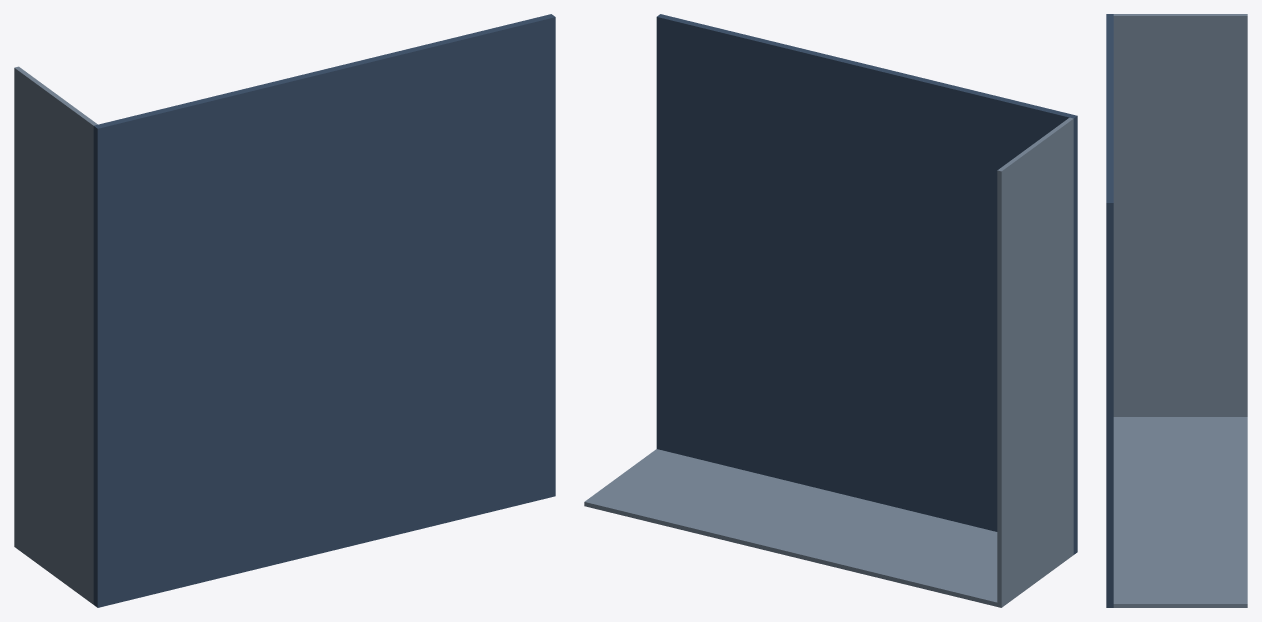
Rendered from office.glb.
The picture shows the model from 3 angles, left to right: view 1: azimuth 30°, elevation 25°; view 2: azimuth 150°, elevation 25°; view 3: azimuth 270°, elevation 25°; orthographic projection. The views are drawn at different scales.
Parts seen in each view (by area): view 1: floor, side_wall; view 2: floor, side_wall, back_wall; view 3: side_wall, back_wall, floor.
Boxes of the visible parts, x1=… form: floor: x1=93, y1=14, x2=555, y2=607; side_wall: x1=14, y1=66, x2=97, y2=604; floor: x1=656, y1=14, x2=1077, y2=554; side_wall: x1=997, y1=117, x2=1073, y2=603; back_wall: x1=584, y1=449, x2=1073, y2=607; side_wall: x1=1113, y1=14, x2=1247, y2=416; back_wall: x1=1113, y1=417, x2=1247, y2=607; floor: x1=1106, y1=14, x2=1113, y2=607.
Bounding box in the file's own units: 10 × 10 × 3.16.
